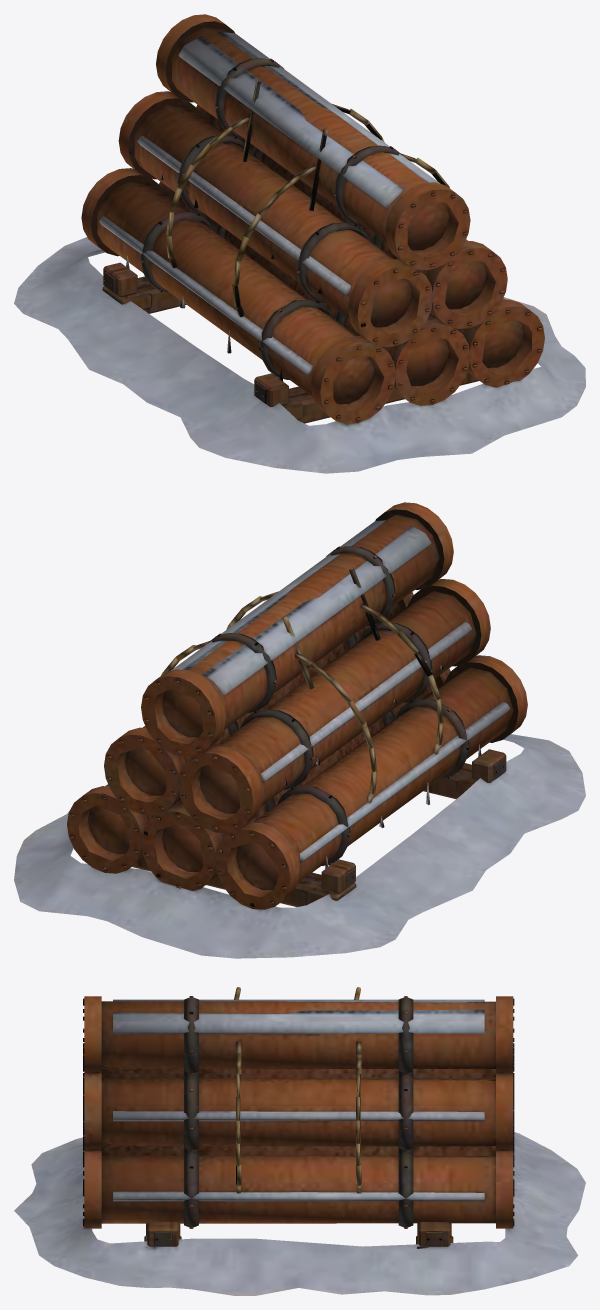
File: pipes.glb
3 renders of one model, top to bottom at view 1: azimuth 30°, elevation 25°; view 2: azimuth 150°, elevation 25°; view 3: azimuth 270°, elevation 25°, orthographic. The views are drawn at different scales.
Parts seen in each view (by area): view 1: model; view 2: model; view 3: model.
Boxes of the visible parts, x1,y1,x2,y2 form: model: (14,14,585,473); model: (14,502,585,958); model: (14,987,585,1295).
Size of the model in its own units: 2.88 by 1.67 by 4.
1 material, 1 textured.
